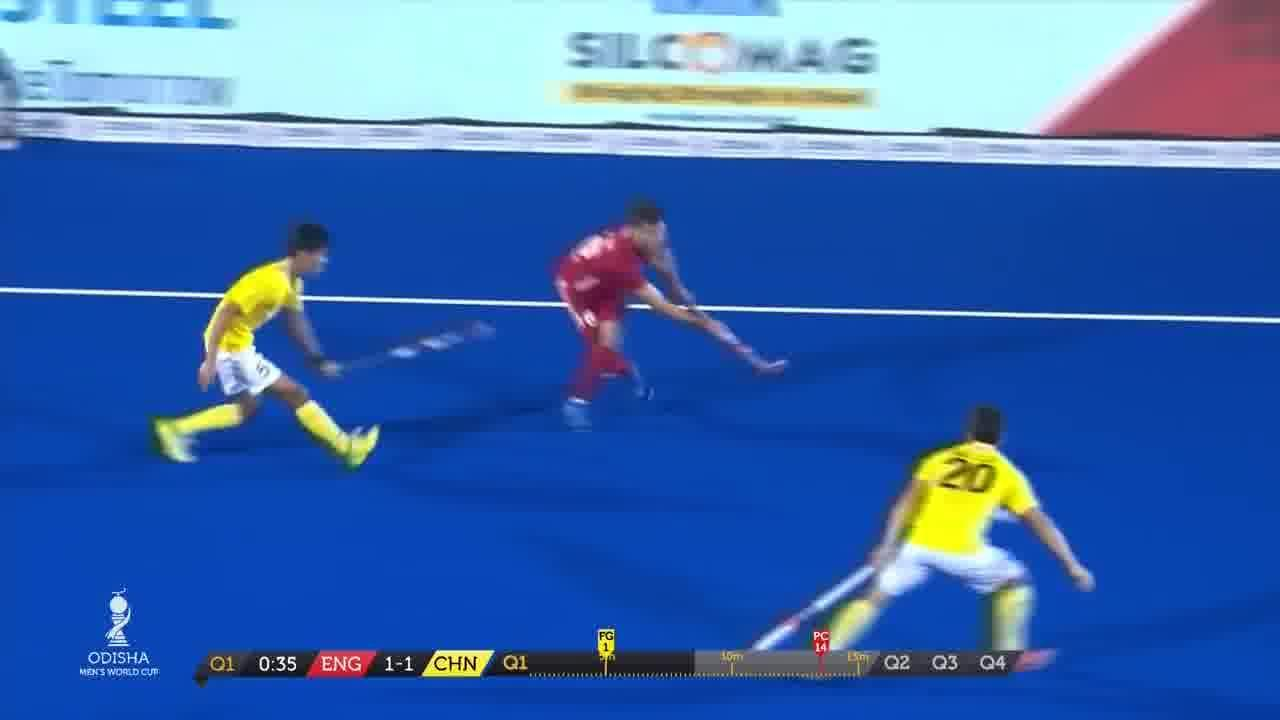ball: (562, 396, 590, 419)
